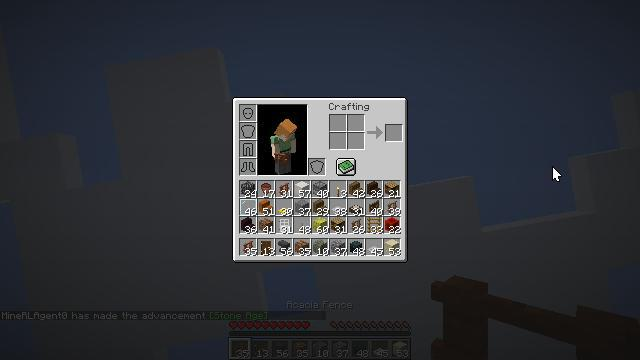cursor: (552, 166, 562, 182)
